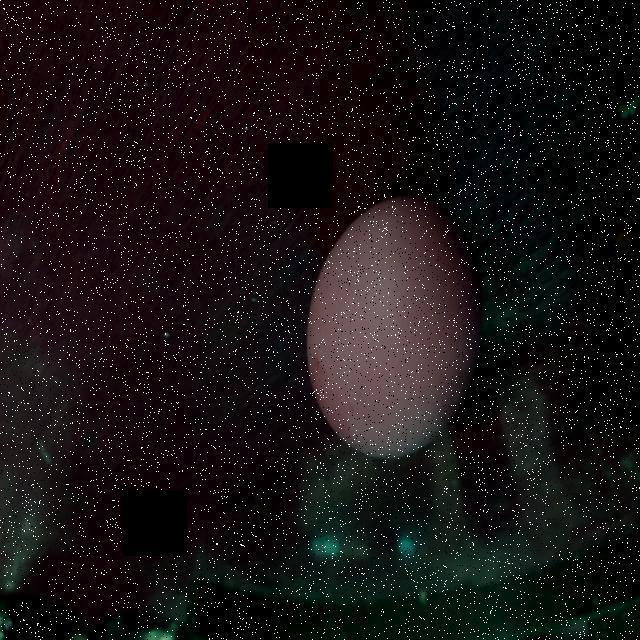egg: (303, 190, 485, 466)
